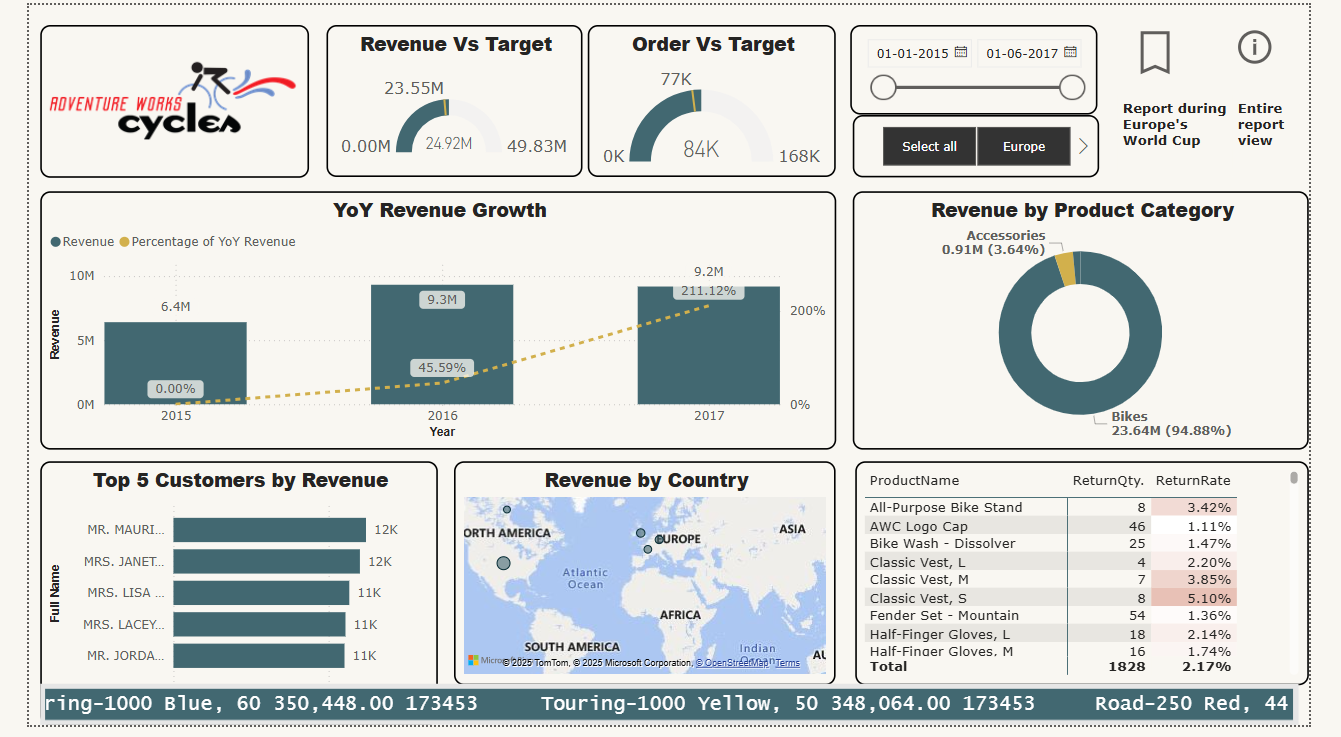

What the dashboard file says about the page in this screenshot:
{"tool":"powerbi","page":{"name":"Top Line Report","canvas":[1280,720],"ordinal":0},"visuals":[{"type":"image","box":[11.2,19.6,268.9,152.7],"z":0},{"type":"lineStackedColumnComboChart","title":"YoY Revenue Growth","fields":{"Y":["All_Measures (2).M_Revenue"],"Category":["d-Calendar.Start_of_Month.Variation.Date Hierarchy.Year"],"Y2":["All_Measures (2).M_Percentage_of_YoY_Revenue"]},"box":[11,185.9,796.1,258],"z":1000},{"type":"donutChart","title":"Revenue by Product Category","fields":{"Category":["d-Product_Categories.Product_Category"],"Y":["All_Measures (2).M_Revenue"]},"box":[824.2,185.9,456.1,258],"z":2000},{"type":"barChart","title":"Top 5 Customers by Revenue","fields":{"Category":["d-Customers.Full Name"],"Y":["All_Measures (2).M_Revenue"]},"box":[11,456.1,397.4,264.1],"z":3000},{"type":"map","title":"Revenue by Country","fields":{"Category":["d-Territories.Country"],"Size":["All_Measures (2).M_Revenue"]},"box":[425.5,456.1,381.5,223.8],"z":4000},{"type":"pivotTable","fields":{"Rows":["d-Products.ProductName"],"Values":["All_Measures (2).M_Total_Return_Qty.","All_Measures (2).M_Return_Rate"]},"box":[826.6,456.1,453.7,223.8],"z":5000},{"type":"gauge","title":"Revenue Vs Target","fields":{"Y":["All_Measures (2).M_Revenue"],"TargetValue":["All_Measures (2).M_Target_Revenue"]},"box":[297.6,20.3,255.8,152],"z":6000},{"type":"gauge","title":"Order Vs Target","fields":{"Y":["All_Measures (2).M_Total_Order_Qty."],"TargetValue":["All_Measures (2).M_Target_Order_Qty."]},"box":[558.5,20.3,248.2,152],"z":7000},{"type":"slicer","fields":{"Values":["d-Territories.Continent"]},"box":[823.7,109.9,246.3,62.6],"z":8000},{"type":"ScrollingTextVisual1448795304508","fields":{"Measure Absolute":["All_Measures (2).M_Revenue"],"Category":["d-Products.ProductName"],"Measure Deviation":["All_Measures (2).M_YoY"]},"box":[11,678.7,1258.3,41.6],"z":9000},{"type":"actionButton","box":[1099.3,19.6,68.5,55],"z":10000},{"type":"textbox","box":[1088.3,90.5,114.9,81.9],"z":11000},{"type":"actionButton","box":[1203.3,19.6,63.6,44],"z":12000},{"type":"textbox","box":[1203.3,90.5,63.6,73.4],"z":13000},{"type":"slicer","fields":{"Values":["d-Calendar.Start_of_Month"]},"box":[821.6,19.7,247.6,89.6],"z":14000}]}

Visuals, with their boxes in screenshot pixels (x1, y1, x2, y2), scaled from the page's 1280x720 canvas onto the 1341x737 screenshot:
image: x1=12 y1=20 x2=293 y2=176
"YoY Revenue Growth" lineStackedColumnComboChart: x1=12 y1=190 x2=846 y2=454
"Revenue by Product Category" donutChart: x1=863 y1=190 x2=1340 y2=454
"Top 5 Customers by Revenue" barChart: x1=12 y1=467 x2=428 y2=736
"Revenue by Country" map: x1=446 y1=467 x2=845 y2=696
pivotTable - d-Products.ProductName x All_Measures (2).M_Total_Return_Qty.: x1=866 y1=467 x2=1340 y2=696
"Revenue Vs Target" gauge: x1=312 y1=21 x2=580 y2=176
"Order Vs Target" gauge: x1=585 y1=21 x2=845 y2=176
slicer - d-Territories.Continent: x1=863 y1=112 x2=1121 y2=177
ScrollingTextVisual1448795304508 - All_Measures (2).M_Revenue x d-Products.ProductName: x1=12 y1=695 x2=1330 y2=736
actionButton: x1=1152 y1=20 x2=1223 y2=76
textbox: x1=1140 y1=93 x2=1261 y2=176
actionButton: x1=1261 y1=20 x2=1327 y2=65
textbox: x1=1261 y1=93 x2=1327 y2=168
slicer - d-Calendar.Start_of_Month: x1=861 y1=20 x2=1120 y2=112
